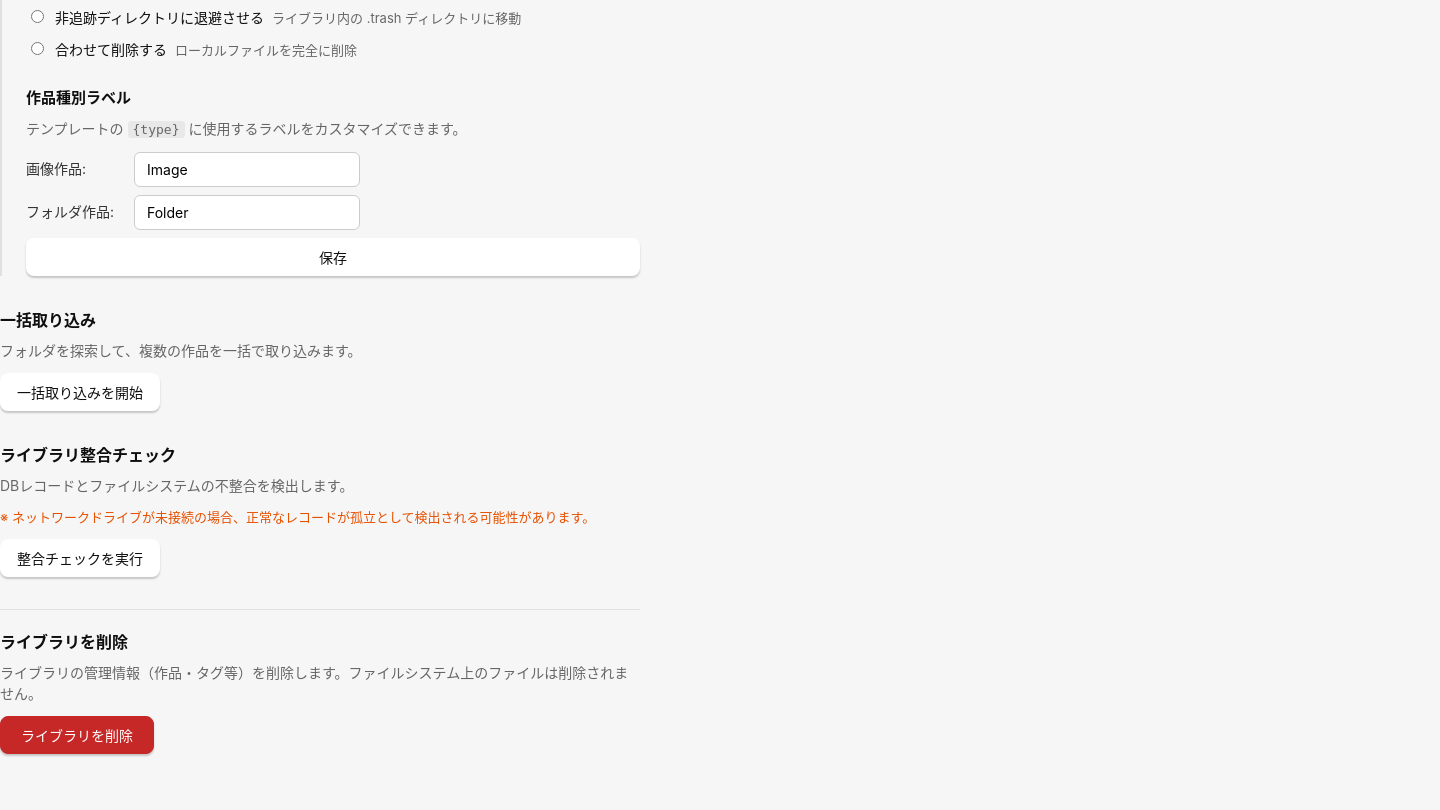
SettingsView コンポーネント › ライブラリ削除ボタンで確認ダイアログが表示される
(page scrolled)
Click the button "ライブラリを削除": (77, 735) x1=0 y1=716 x2=154 y2=754
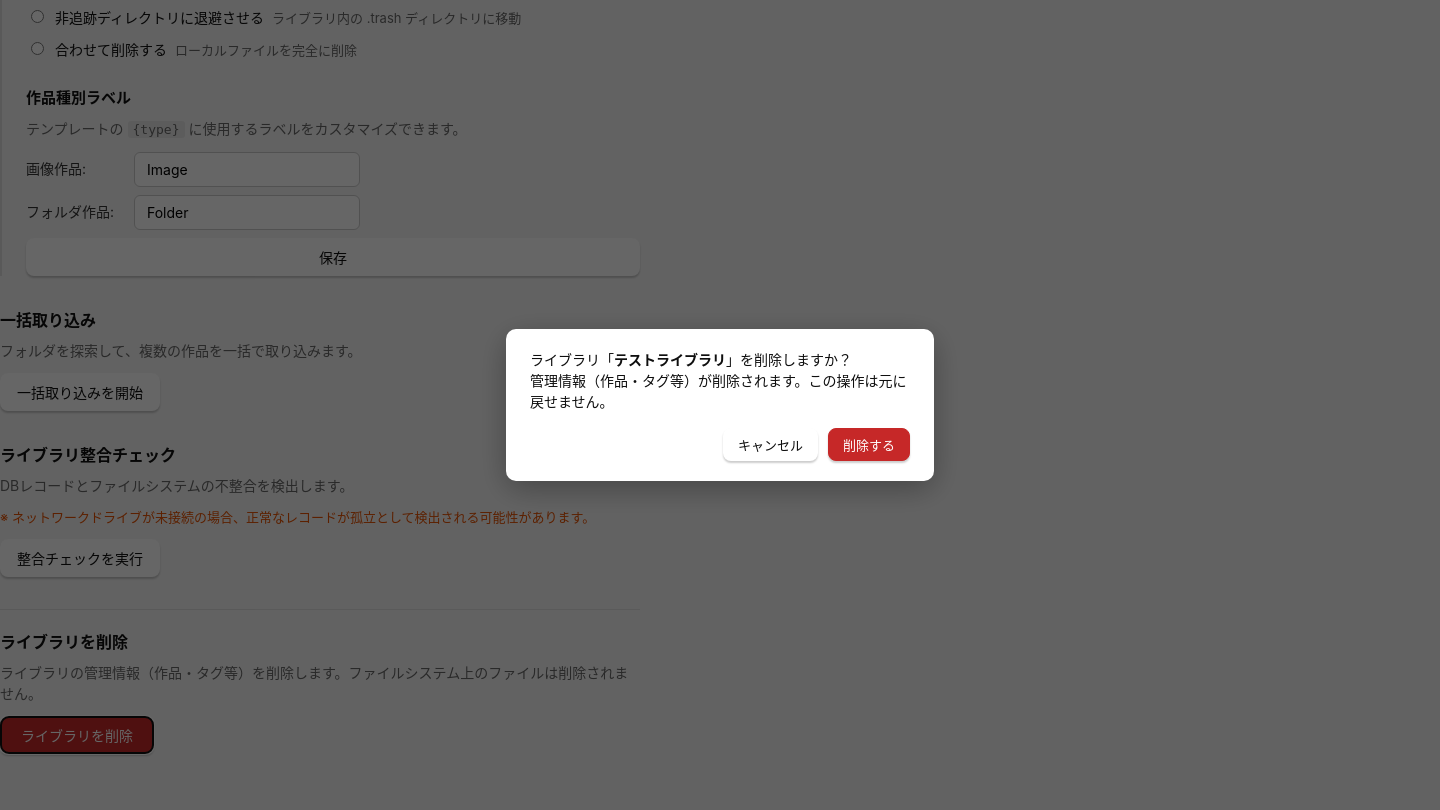
Now the text "ライブラリ「テストライブラリ」を削除しますか？ 管理情報（作品・タグ等）が削除されます。この操作は元に戻せません。" is shown, box x1=530 y1=349 x2=910 y2=412
